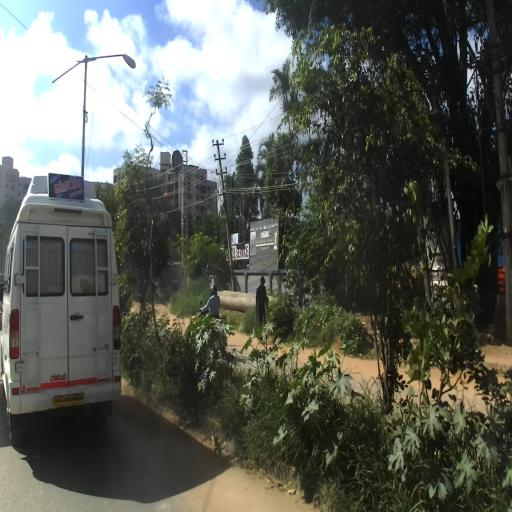street_light_0: (84, 54, 136, 73)
